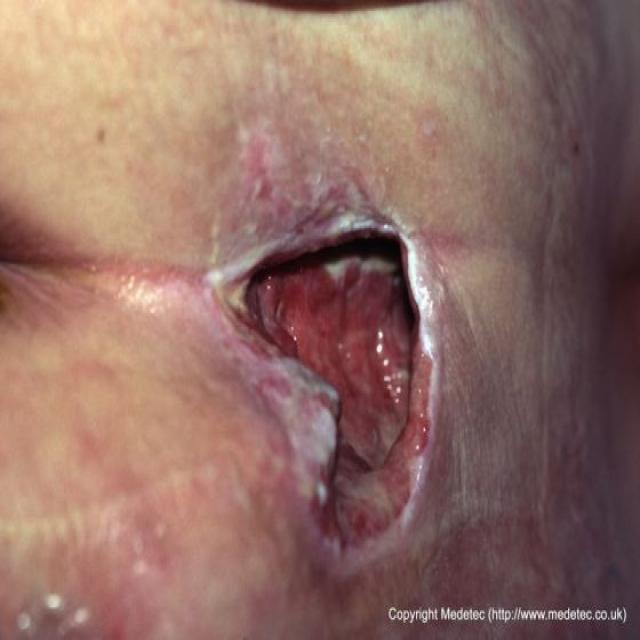stage-4: (245, 239, 432, 543)
